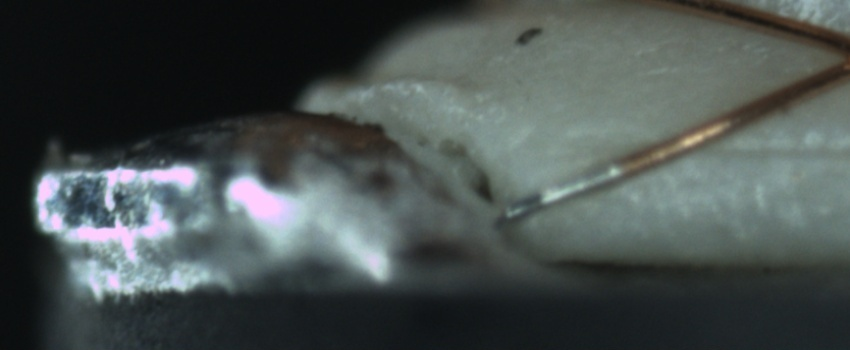DL: (602, 117, 850, 180)
TS: (491, 162, 617, 222)
